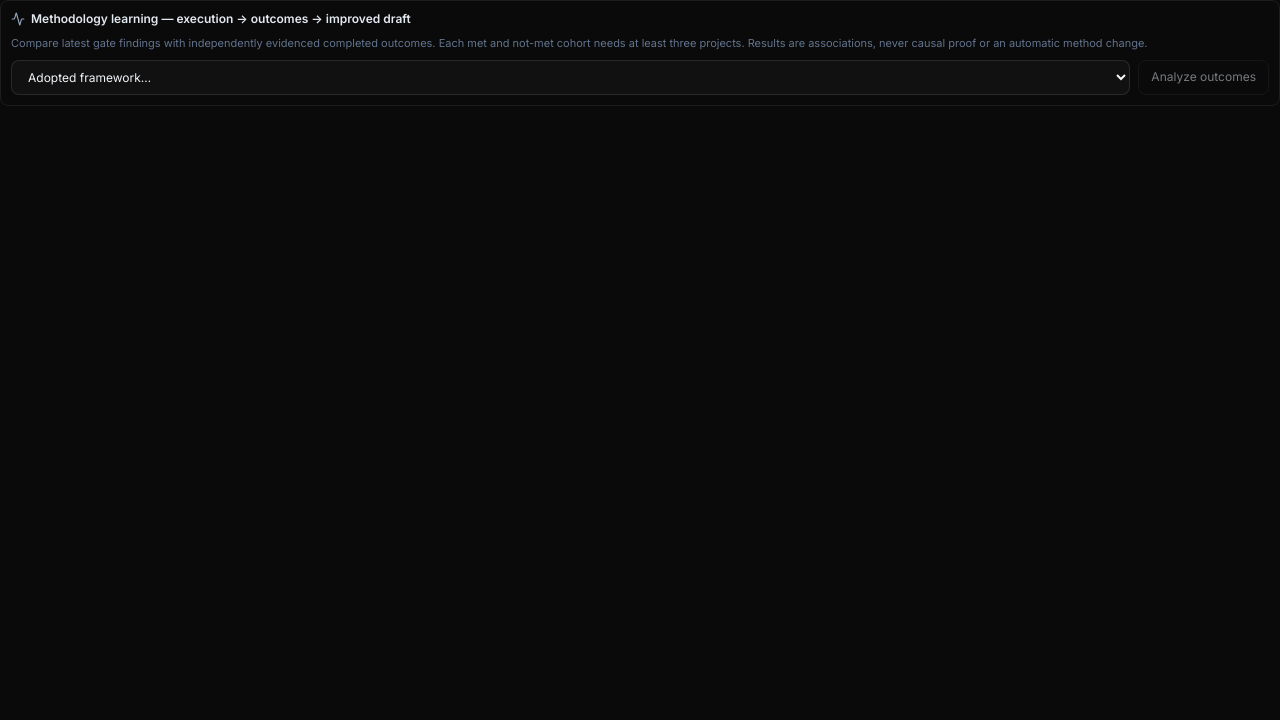
Test: MethodologyLearningPanel › turns an eligible association into a draft proposal, never adoption
Select "Capital Delivery v2" in the dropdown named "Adopted framework to analyze" at (571, 77), box [11,60,1130,94]
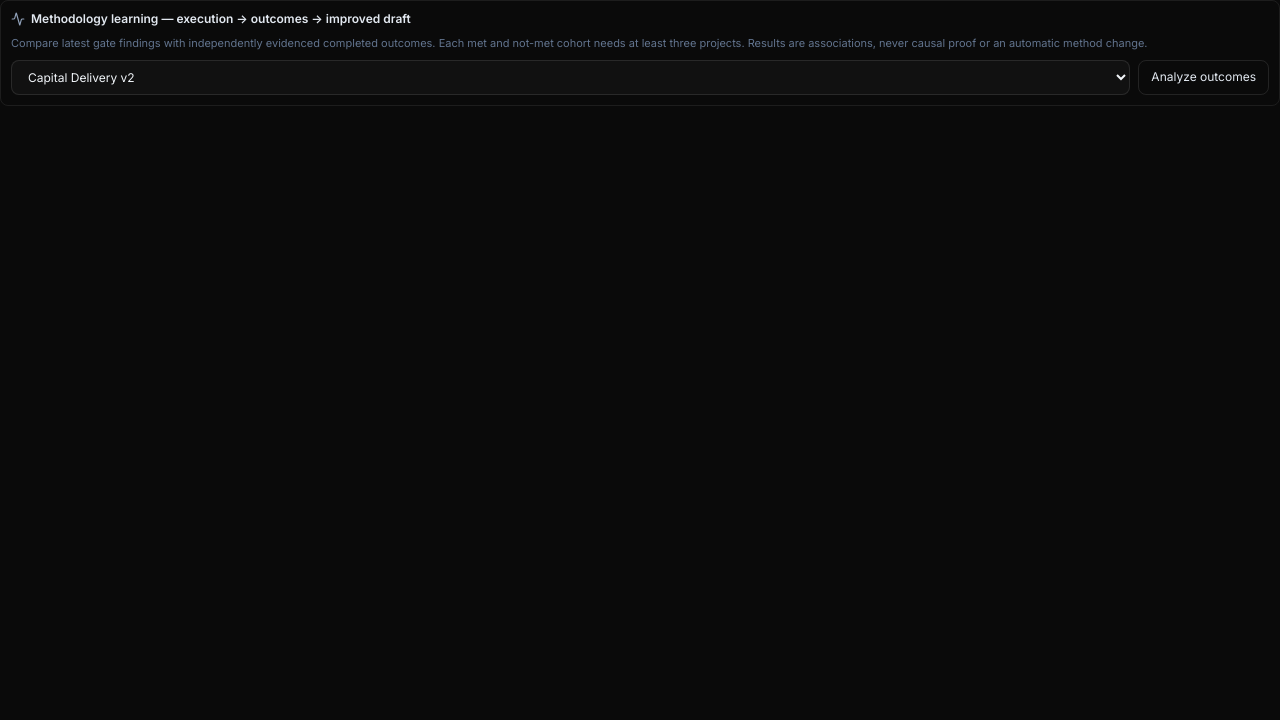
Click the button "Analyze outcomes".
click(1204, 77)  # box [1138,60,1269,94]
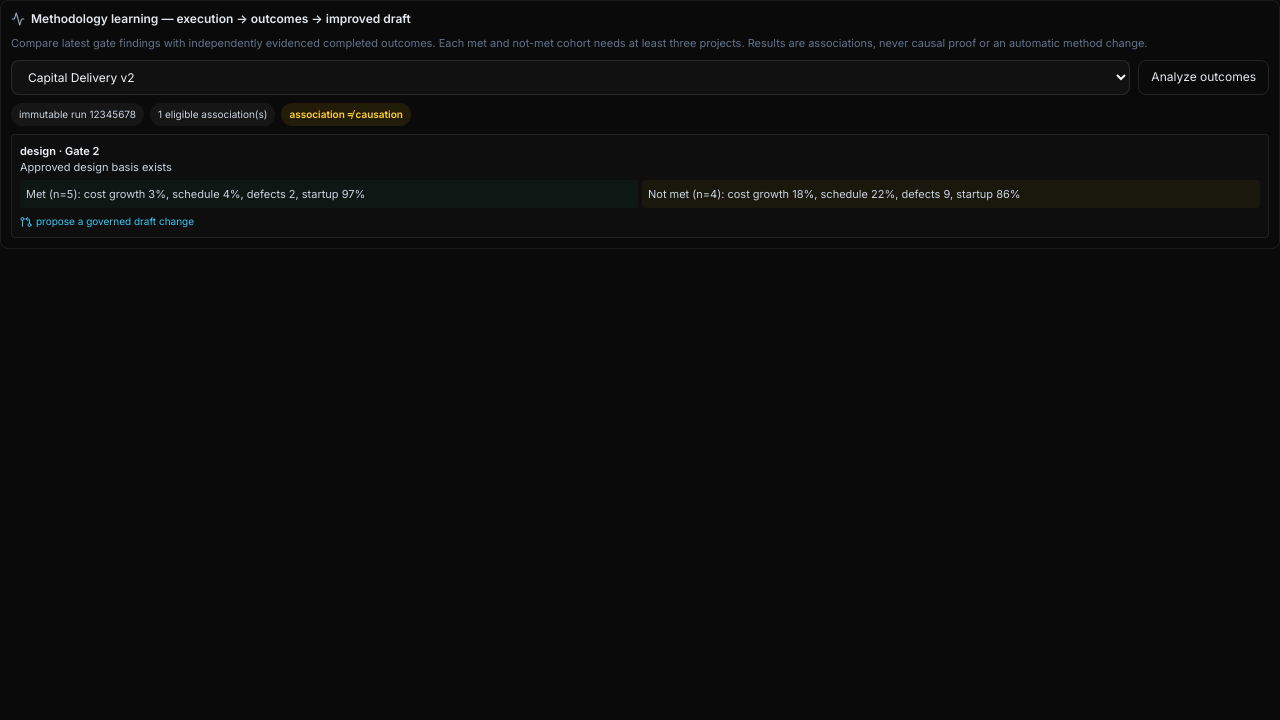
Click the button "propose a governed draft change".
click(107, 222)  # box [20,214,194,229]
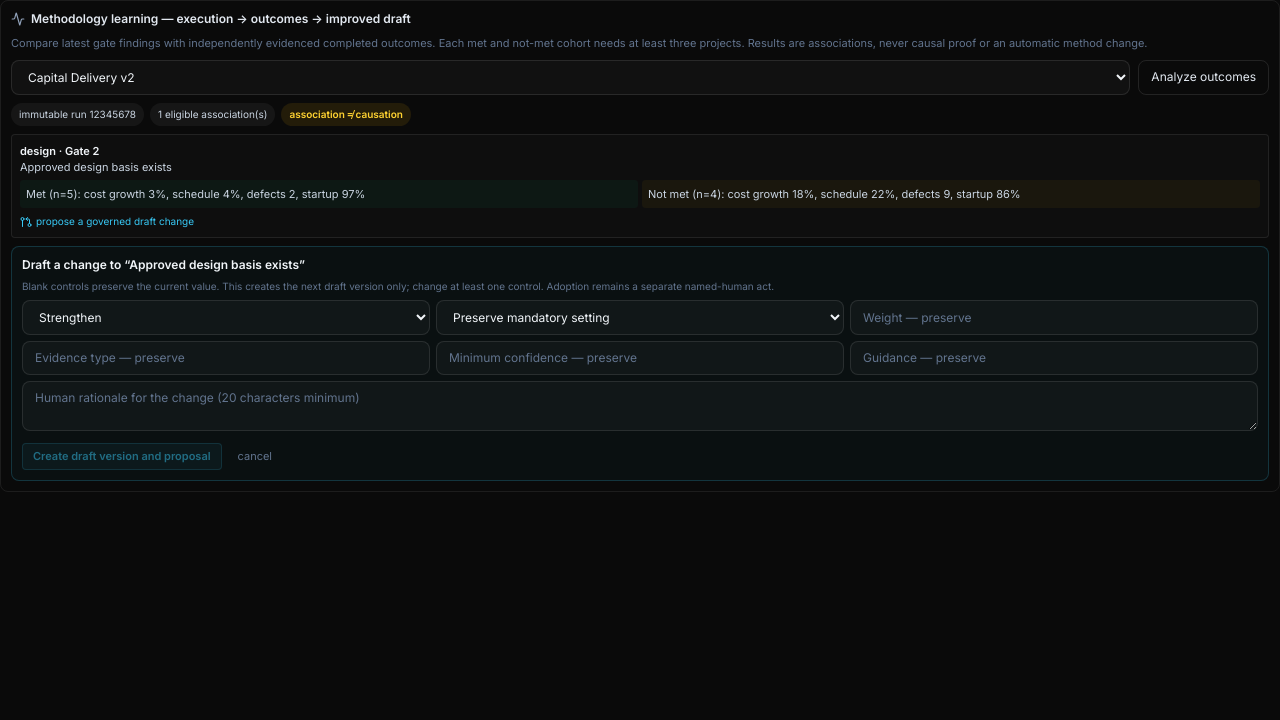
Select "Make mandatory" in the dropdown named "Mandatory setting" at (640, 318), box [436,300,844,335]
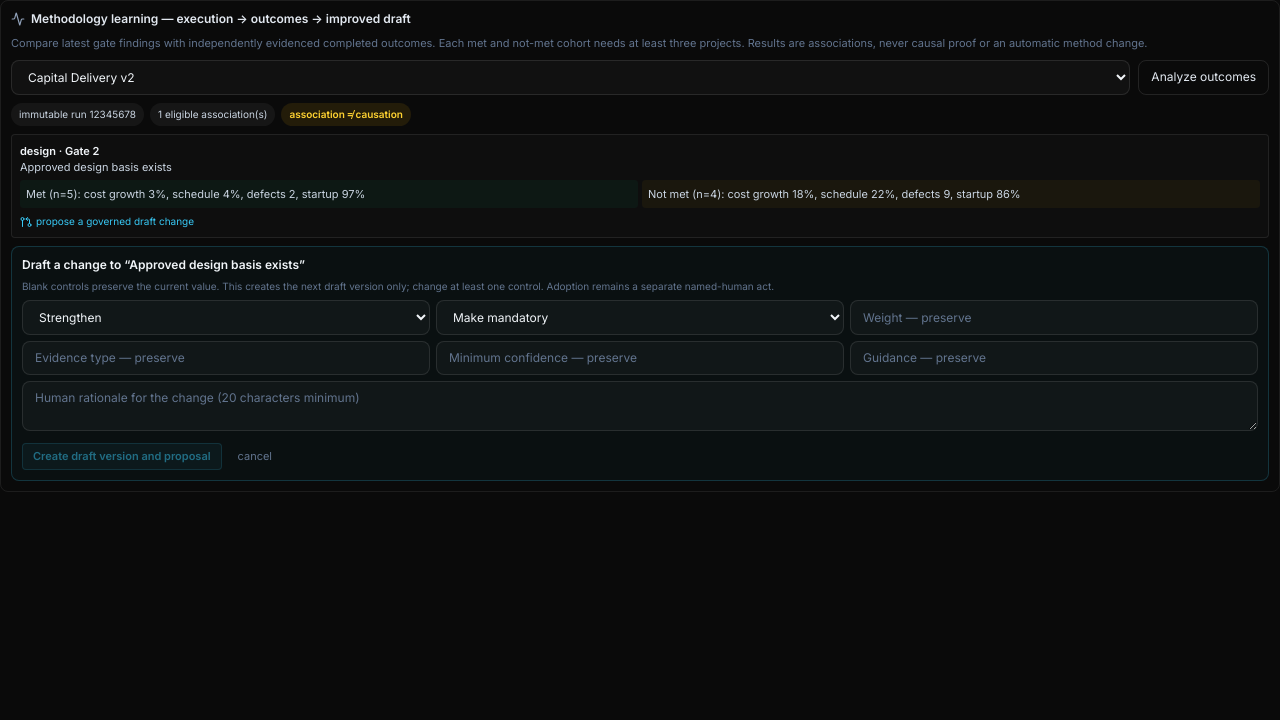
Type "The observed outcome gap warrants a stronger evidence gate." into the text box labelled "Human rationale".
click(640, 406); type("The observed outcome gap warrants a stronger evidence gate.")  # box [22,381,1258,431]
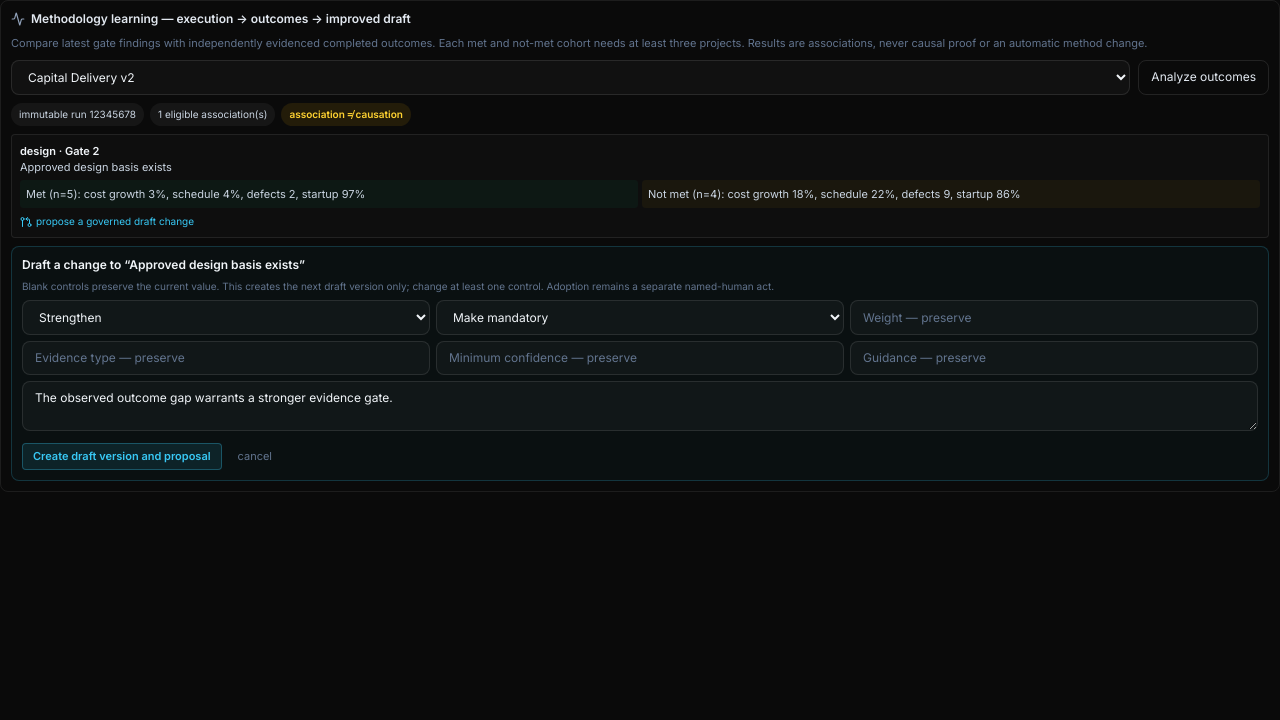
Click the button "Create draft version and proposal".
click(122, 456)  # box [22,443,222,470]
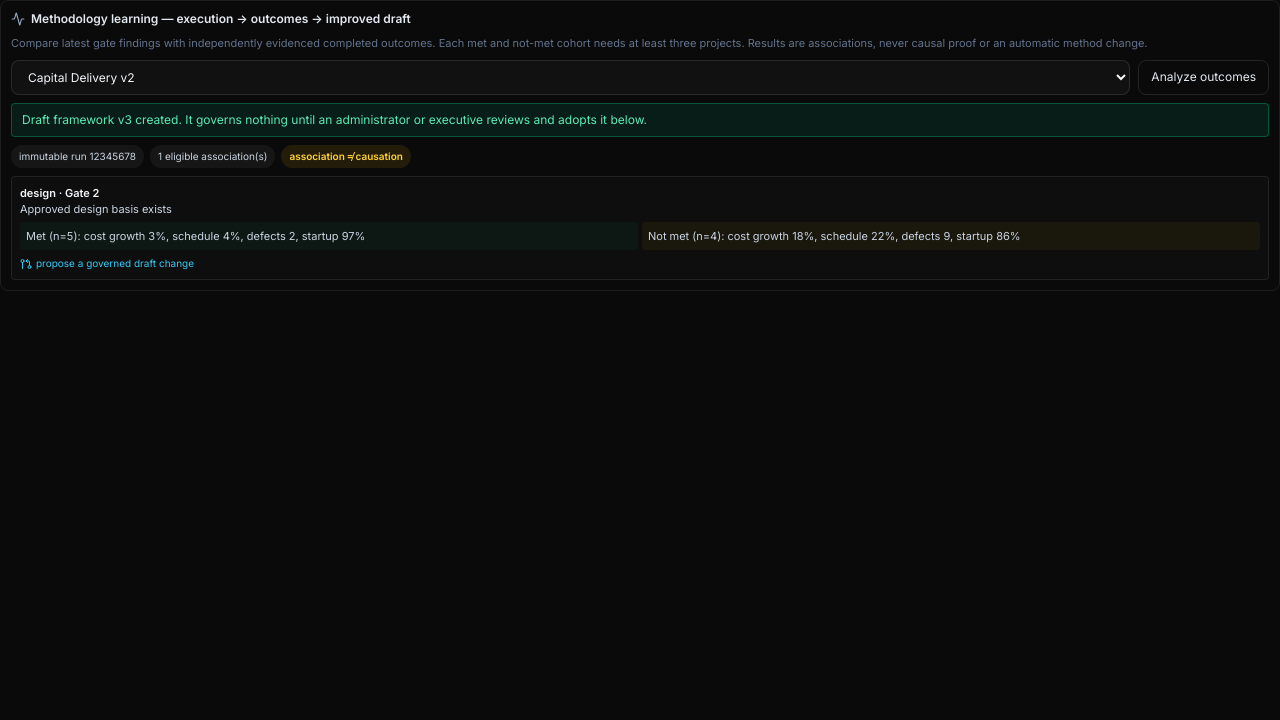
Expected: the text "governs nothing until" is shown, [22,112,647,126]
